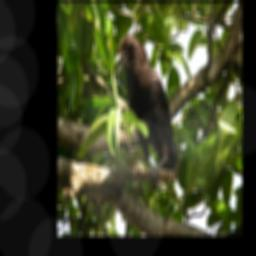Crow: (112, 30, 179, 183)
